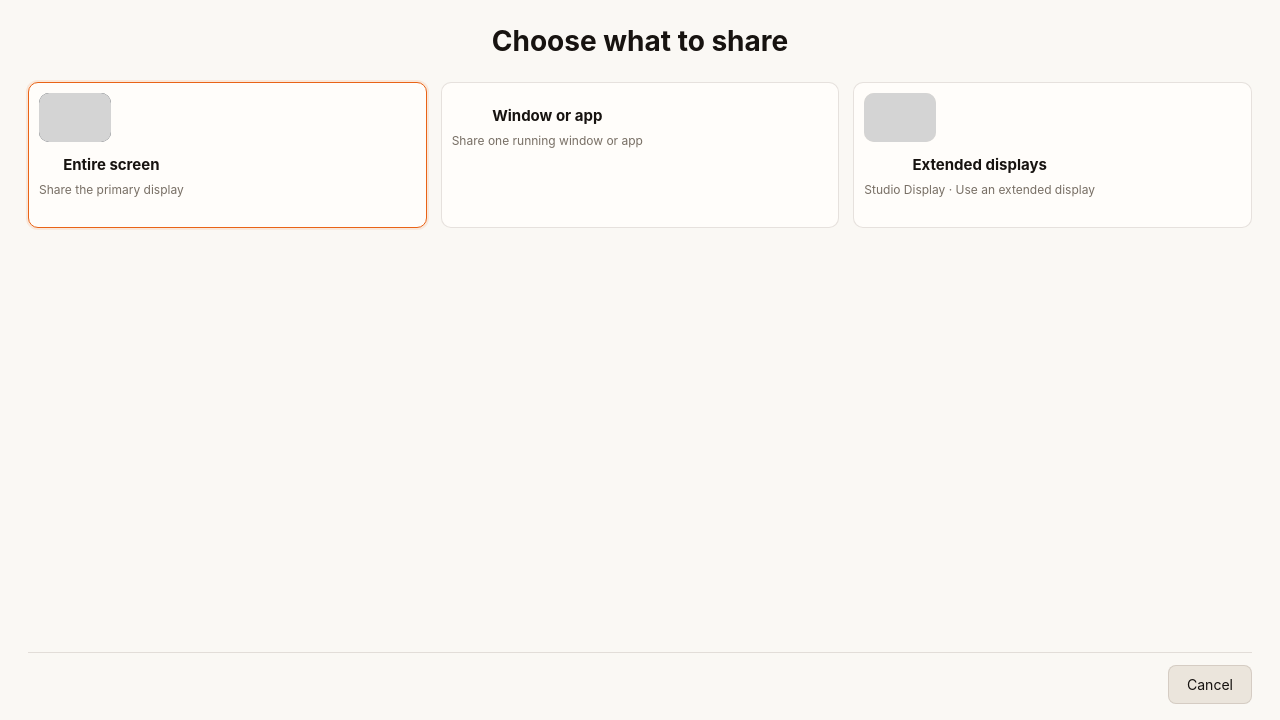
Test case: SourcePicker › refreshes the window list from inside the second-level chooser
Step 1. Click the button "Window or app Share one running window or app" → (547, 116), box [441,82,839,228]
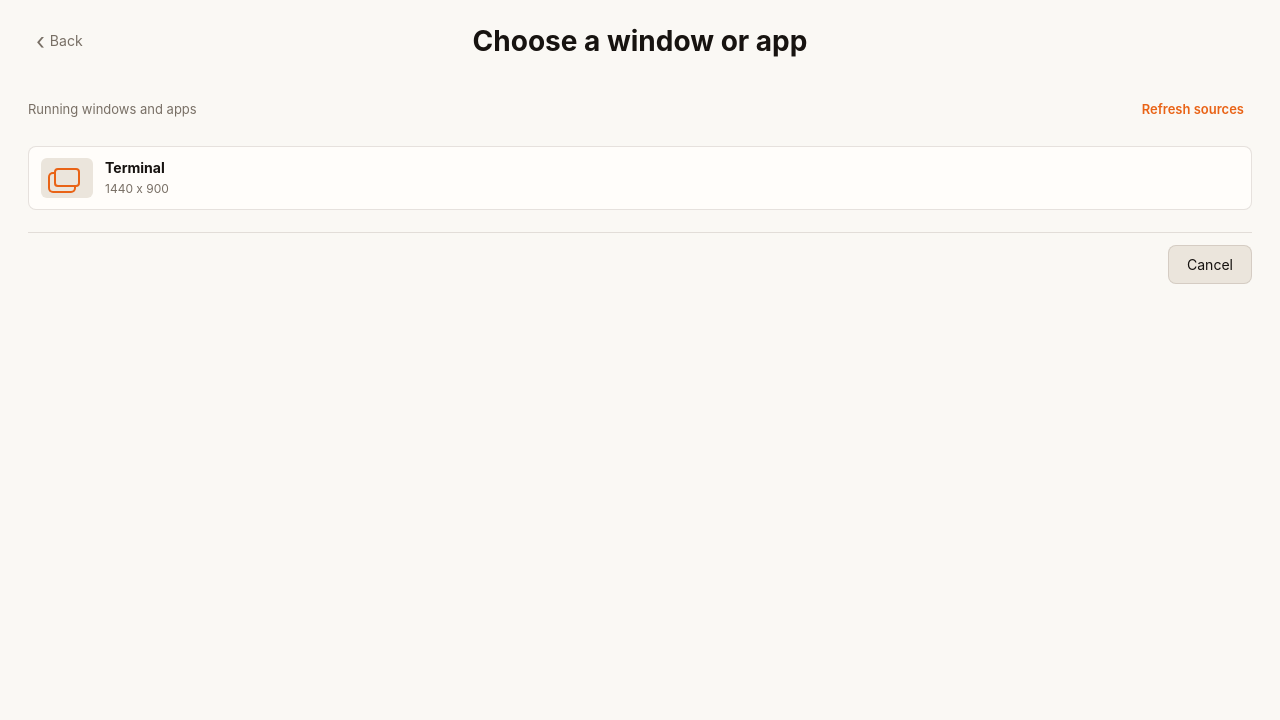
Step 2. Click the button with class "sp-refresh" → (1193, 110), box [1134,94,1252,126]
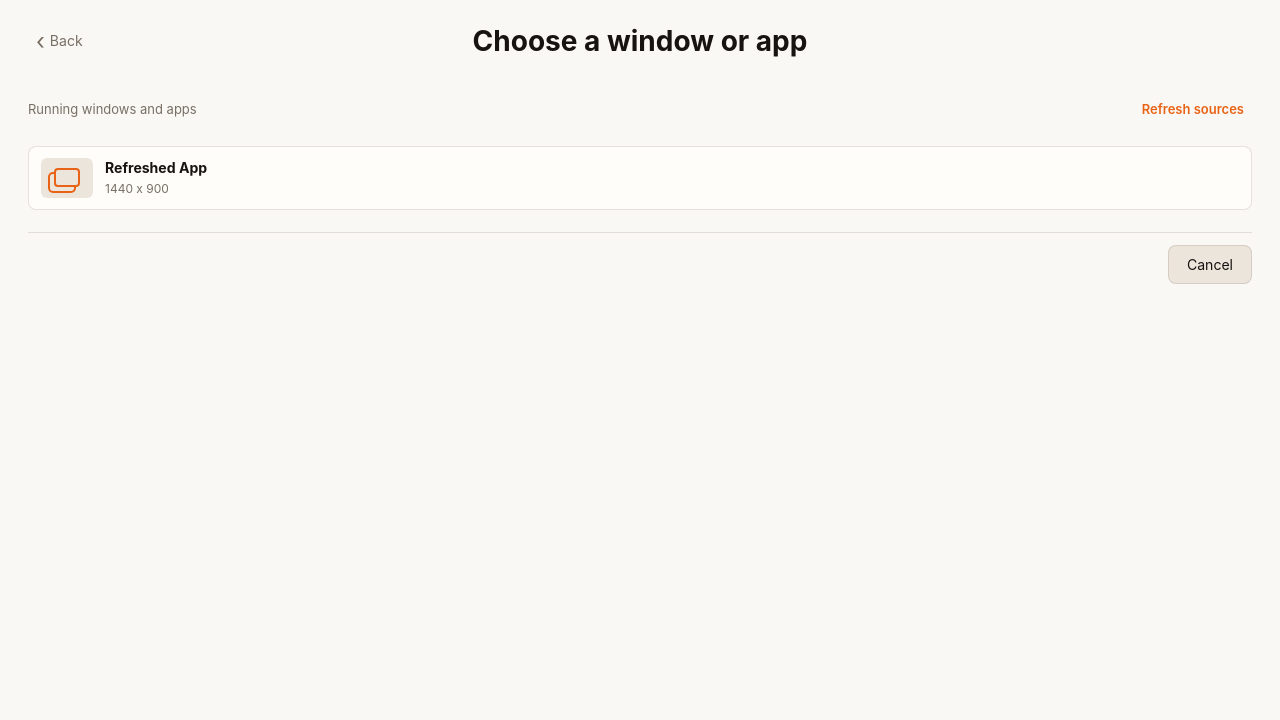
expect the text "Refreshed App" is shown: met, box [105,159,207,176]
